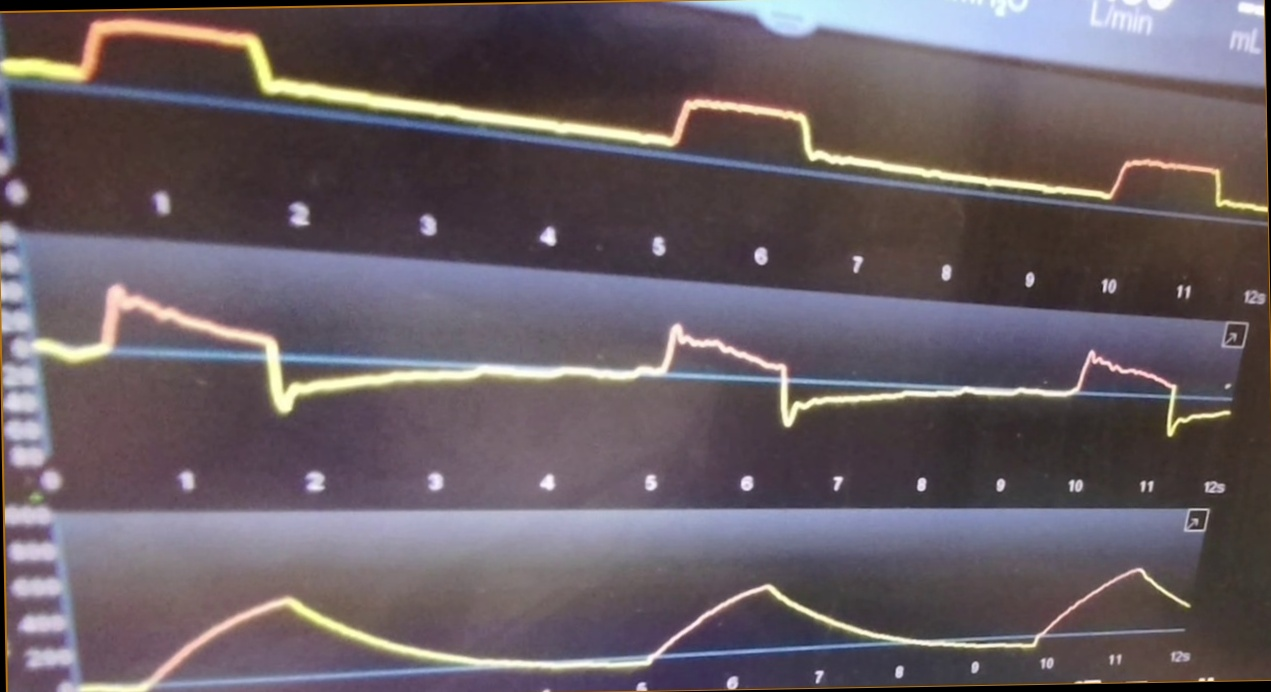Accumulation Flow: (48, 277, 1232, 443)
Volume: (89, 553, 1189, 692)
